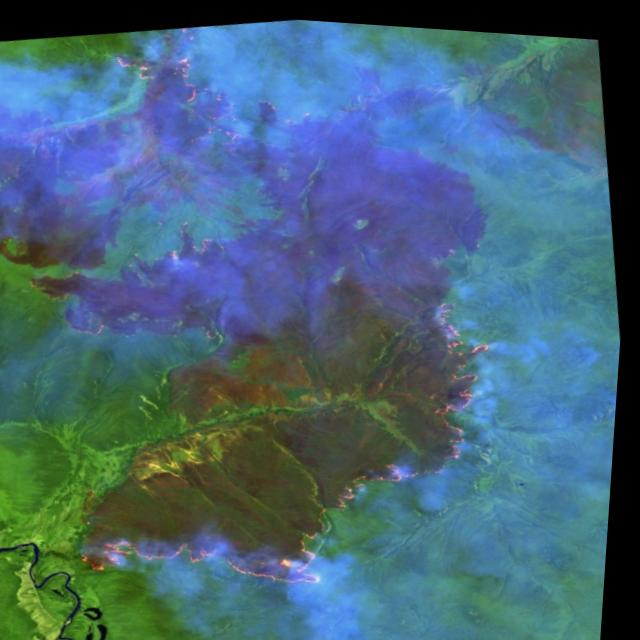fire: (7, 2, 543, 627)
